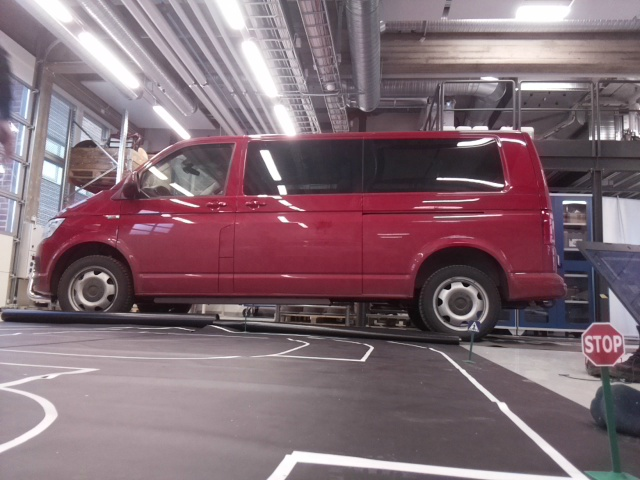Crosswalk: (468, 319, 480, 333)
Stop: (579, 320, 625, 368)
